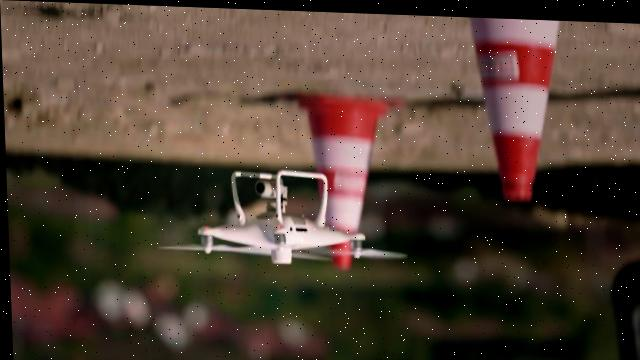drone: (147, 164, 407, 268)
